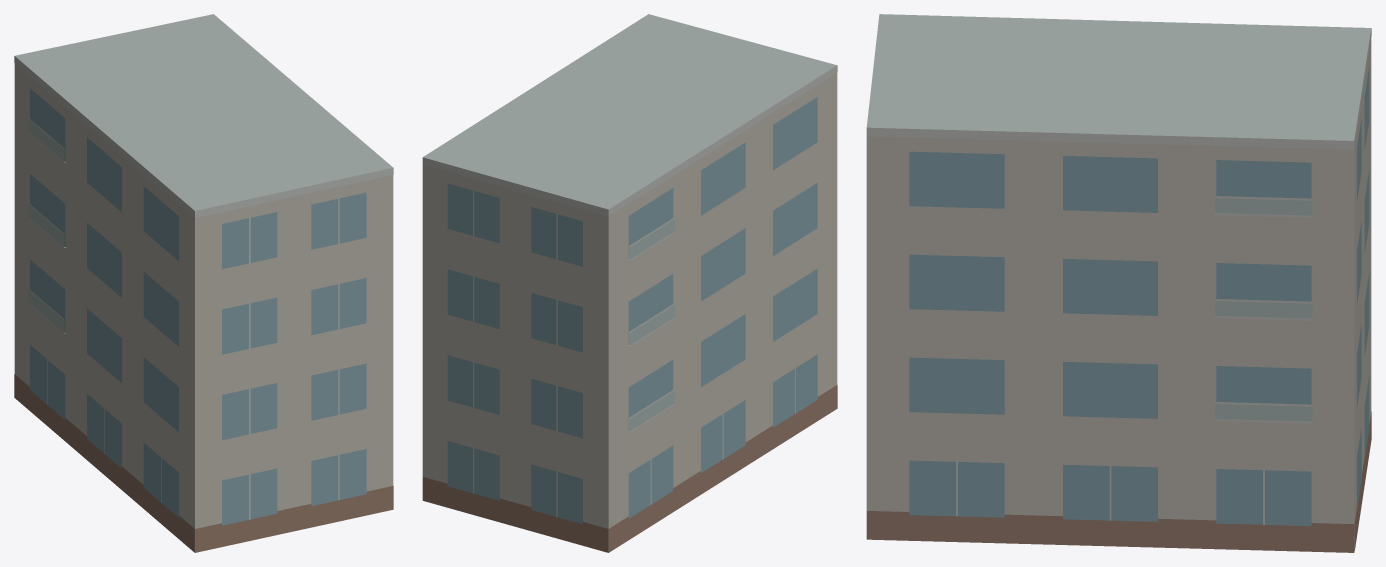
The model's file is survey-upis-32792855.glb.
The picture shows the model from 3 angles, left to right: view 1: azimuth 30°, elevation 25°; view 2: azimuth 150°, elevation 25°; view 3: azimuth 270°, elevation 25°; orthographic projection. The views are drawn at different scales.
Parts seen in each view (by area): view 1: survey-upis-32792855.tmp; view 2: survey-upis-32792855.tmp; view 3: survey-upis-32792855.tmp.
Boxes of the visible parts, x1=… form: survey-upis-32792855.tmp: x1=14, y1=14, x2=393, y2=552; survey-upis-32792855.tmp: x1=422, y1=14, x2=837, y2=552; survey-upis-32792855.tmp: x1=866, y1=14, x2=1371, y2=552.
Size of the model in its own units: 7.74 by 11.7 by 13.
